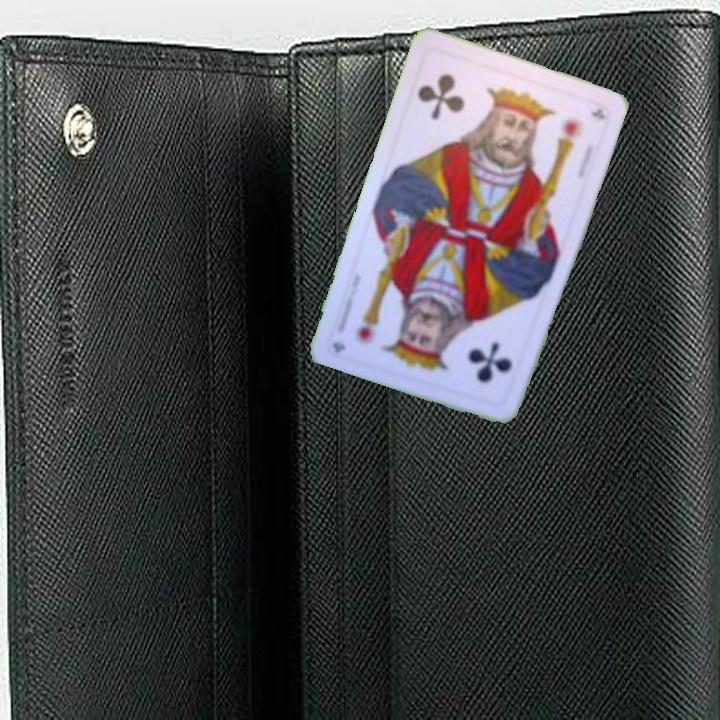c_k.png: (414, 298, 535, 410), (401, 44, 521, 156)
